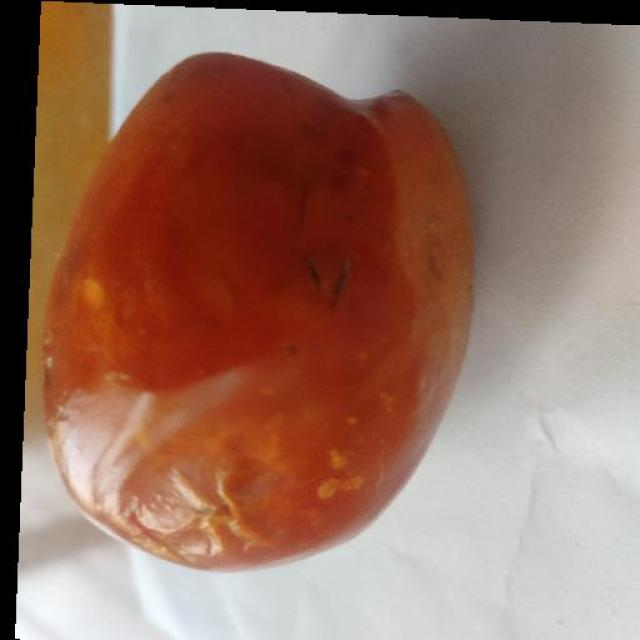Stale_tomato: (55, 83, 468, 551)
